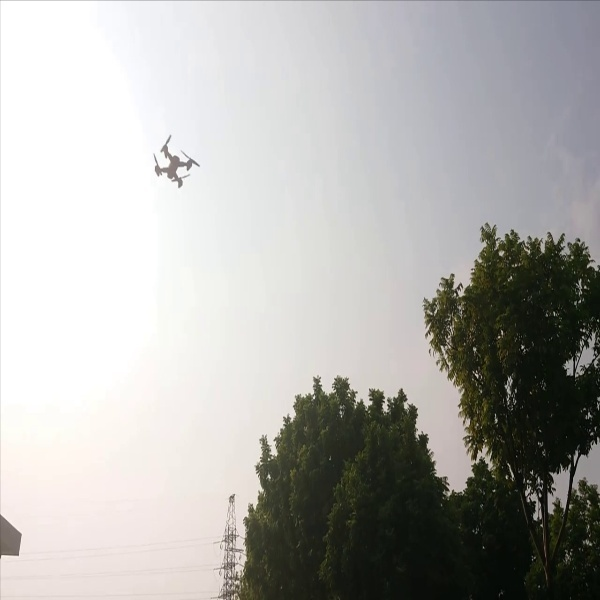drone: (141, 131, 208, 190)
